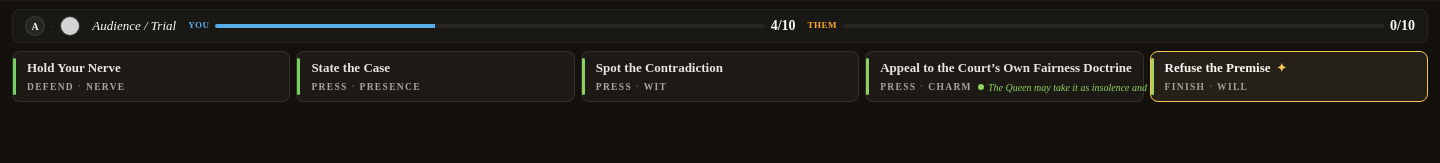
Test: A3 — die anchored to the beat that threw it › anchors the roll to the COMMITTED beat (the click must matter)
Click the button "Spot the Contradiction press · WIT": coordinates (720, 76) x1=581 y1=51 x2=859 y2=102
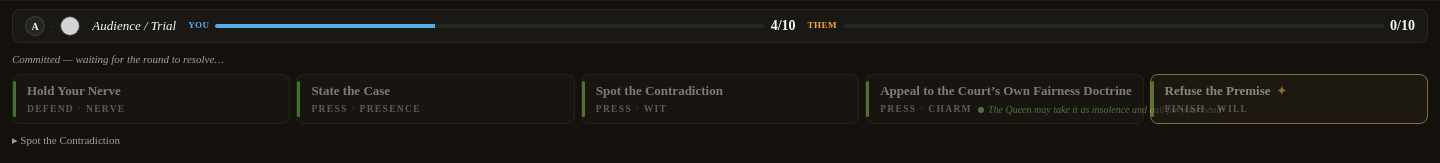
Expected: the text "▸ Spot the Contradiction" is shown, x1=12 y1=134 x2=120 y2=146
